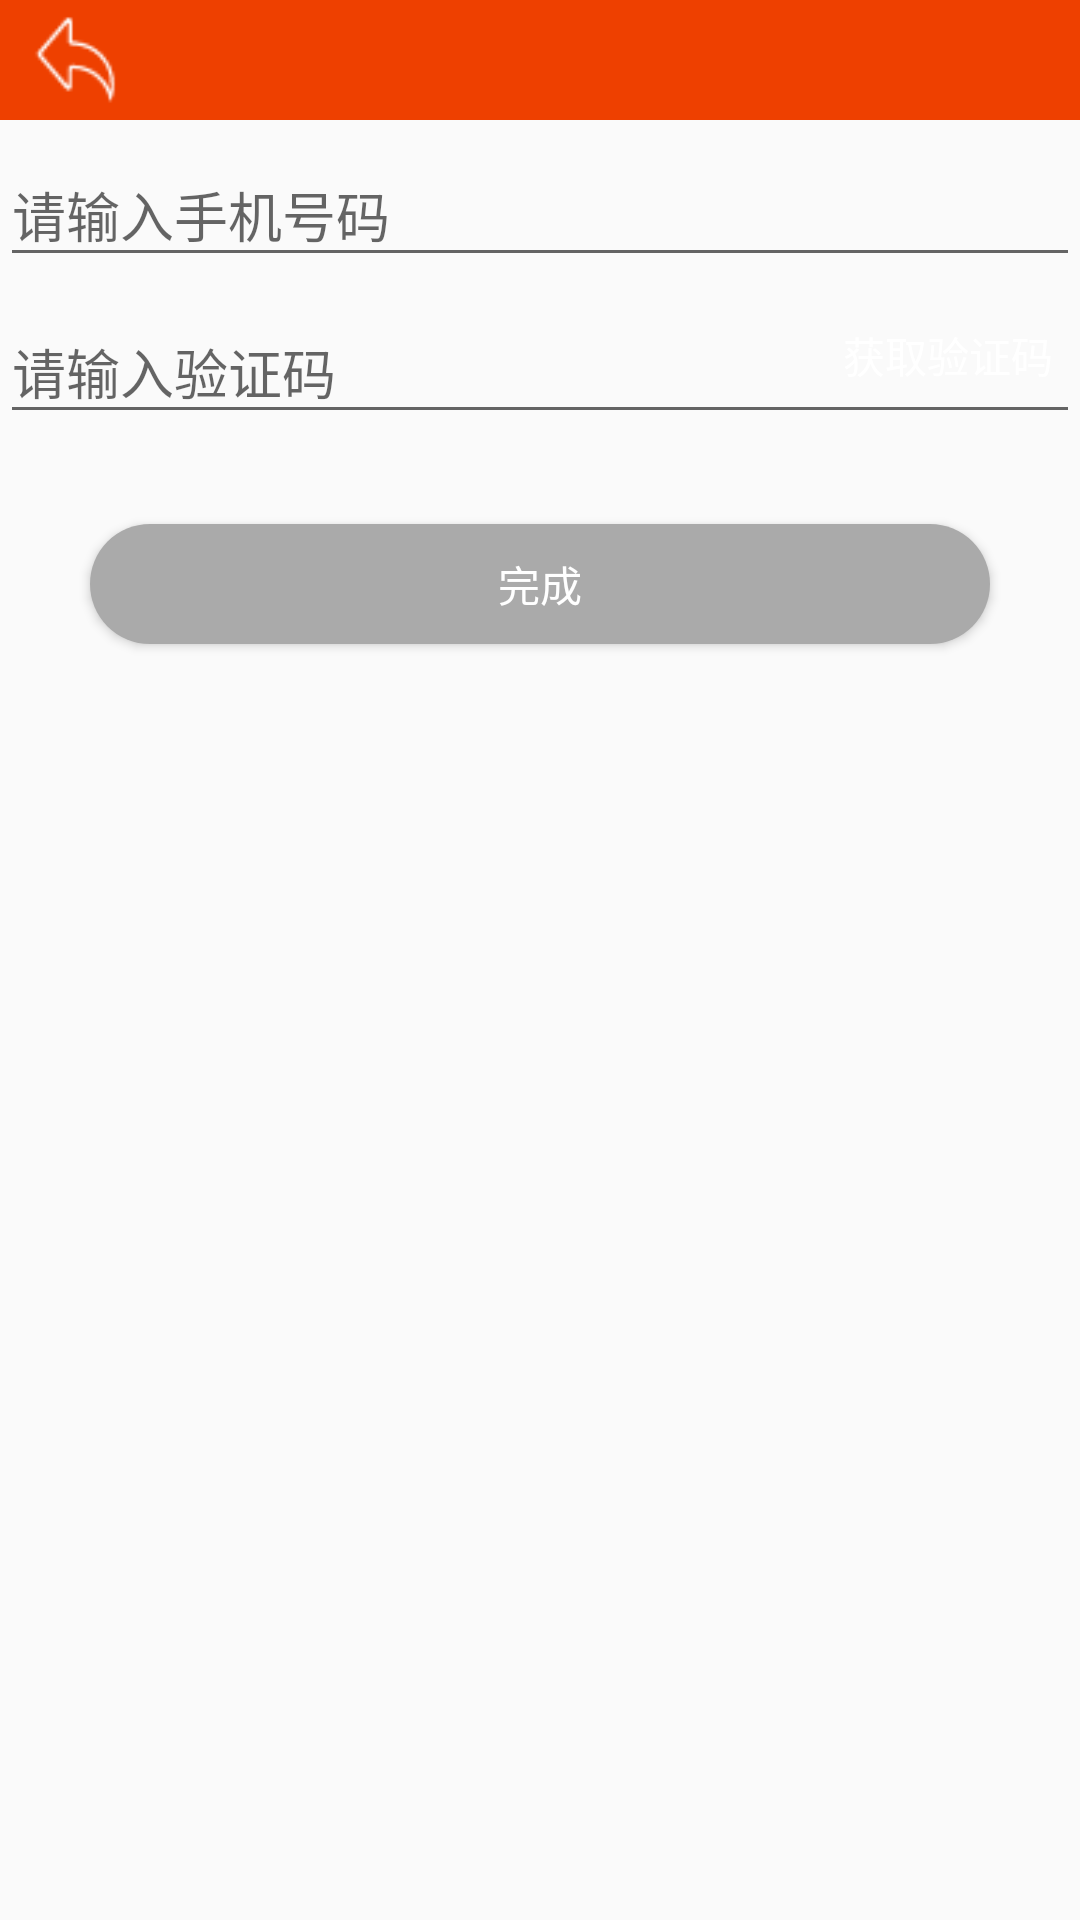

Icon bounding boxes for this 1080 x 1920 phone screenshot, format (x1, y1, x2, y2):
back: (35, 17, 115, 102)
